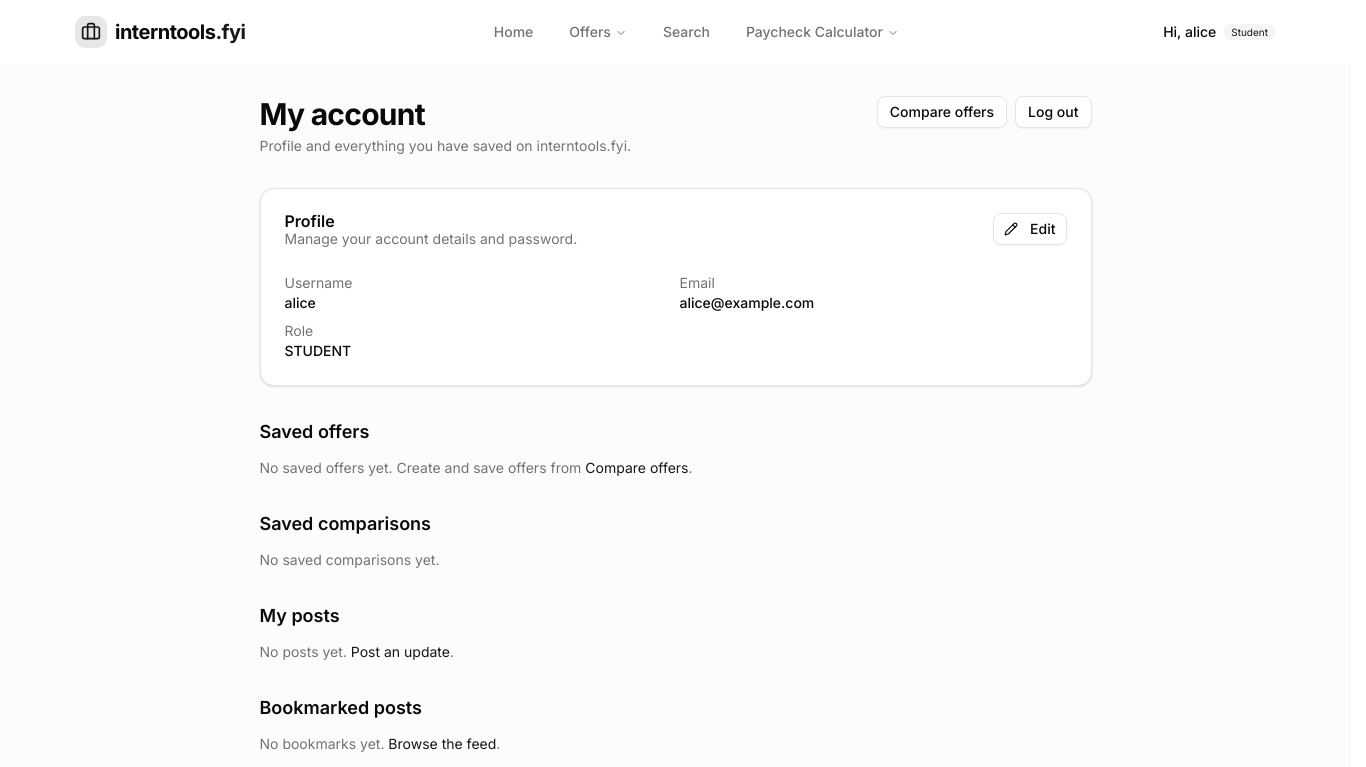
Test: /me page › shows placeholders on profile edit fields
Click the button "Edit".
click(1030, 229)  # box [993,213,1066,245]
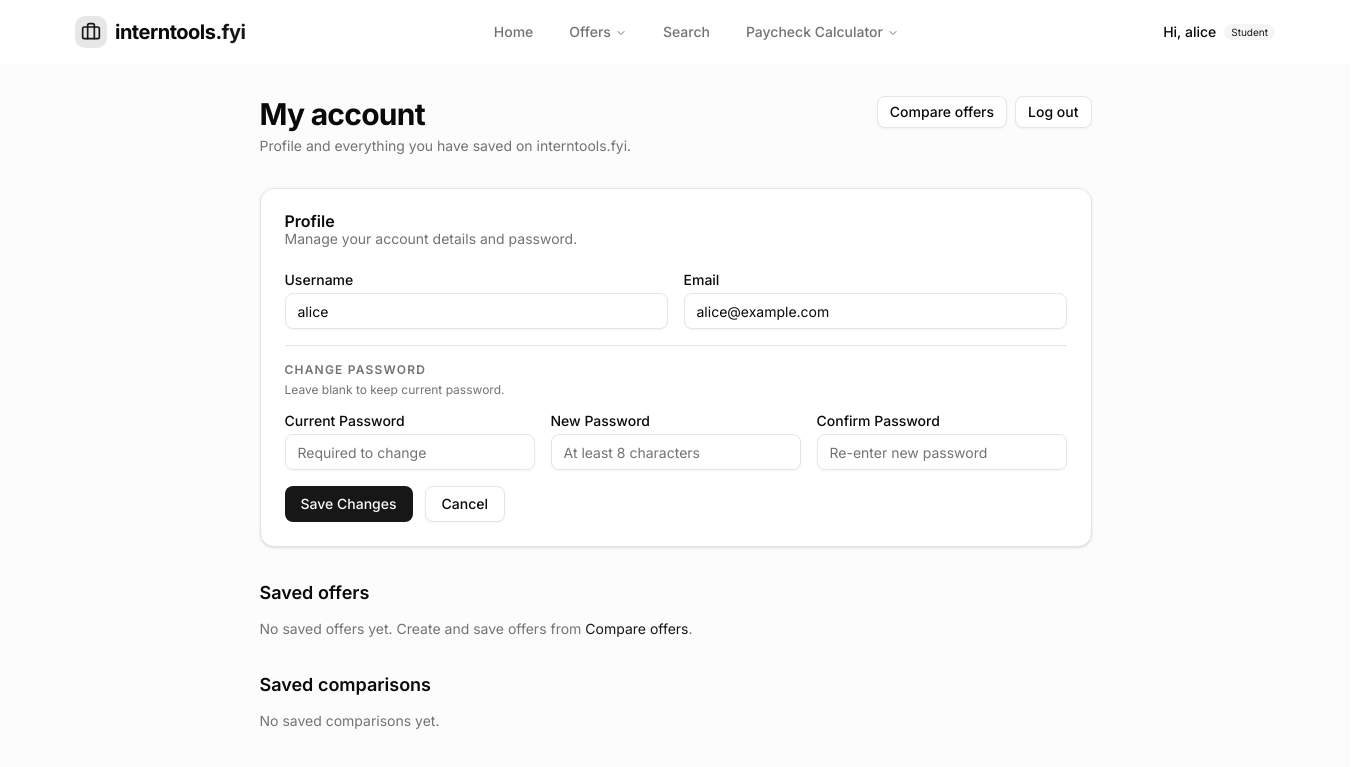
expect the field with placeholder "your-username" is shown: met, box [284,293,668,329]
expect the field with placeholder "you@example.com" is shown: met, box [684,293,1066,329]
expect the password field with placeholder "Required to change" is shown: met, box [284,434,534,470]
